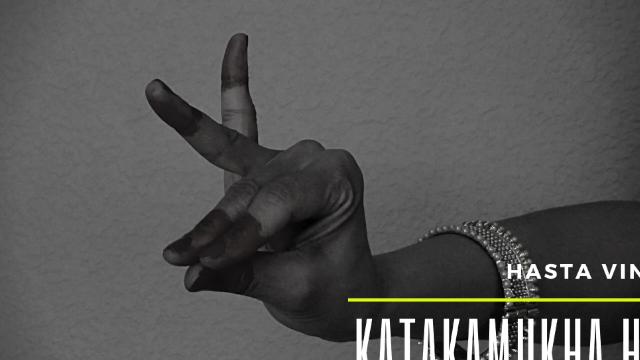katak: (136, 13, 384, 340)
